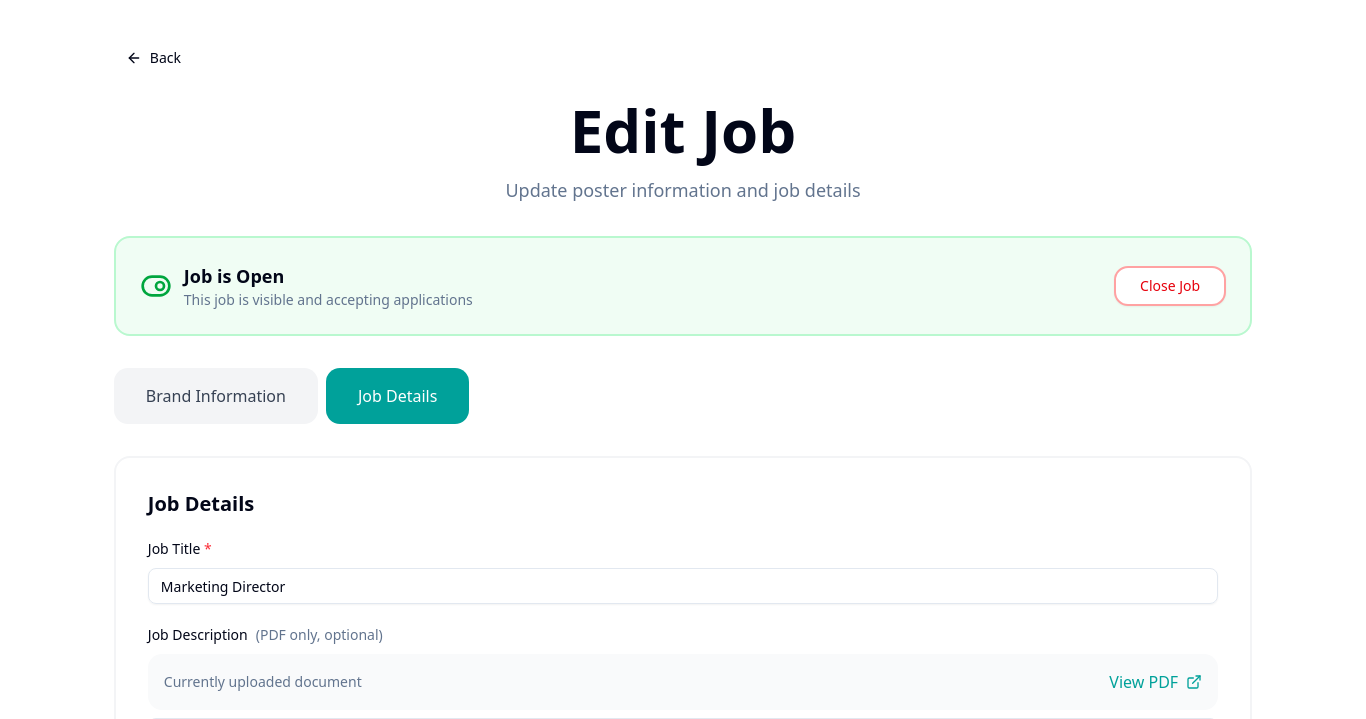
Test: EditJobPage › Brand Tab Form › displays brand form fields
Click the button "Brand Information": x=216, y=396 x1=114 y1=368 x2=318 y2=424
(page scrolled)
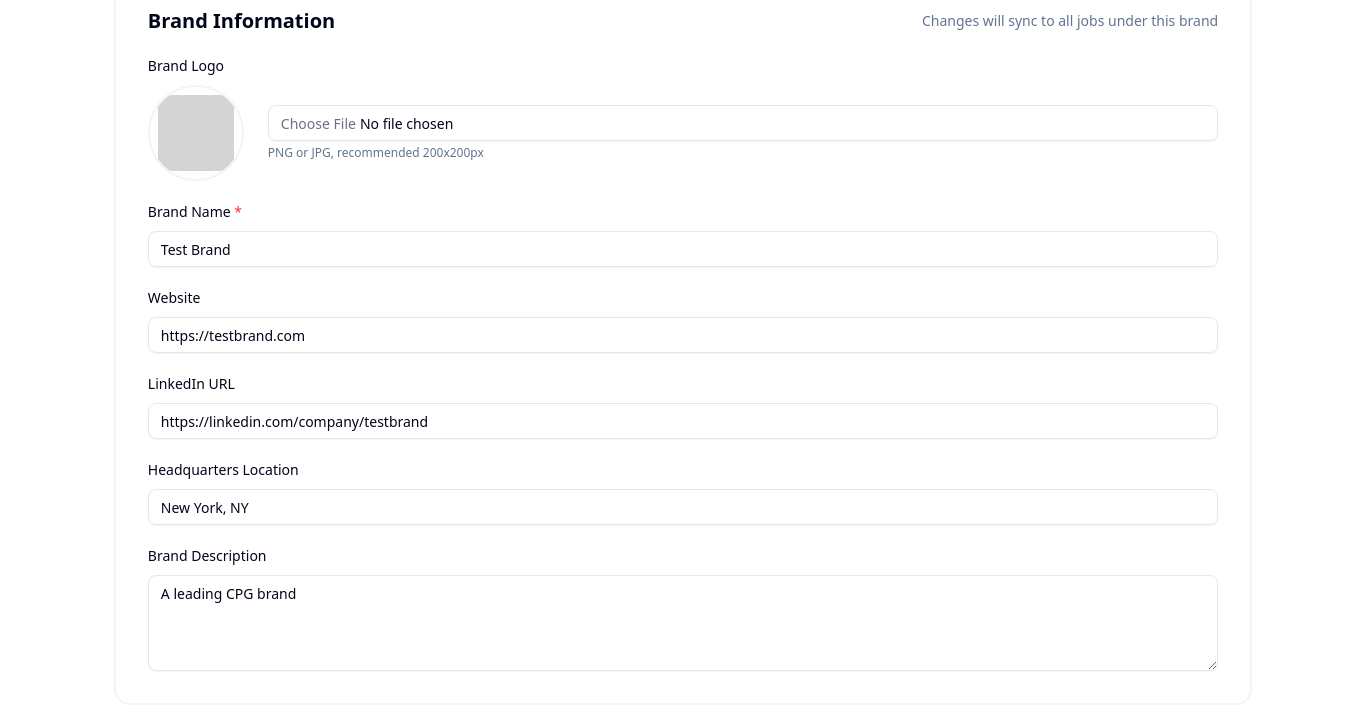
Check: the text "Brand Logo" is shown, box x1=148 y1=56 x2=224 y2=75
Check: the text "Brand Name" is shown, box x1=148 y1=202 x2=231 y2=221
Check: the text "Website" is shown, box x1=148 y1=288 x2=200 y2=307
